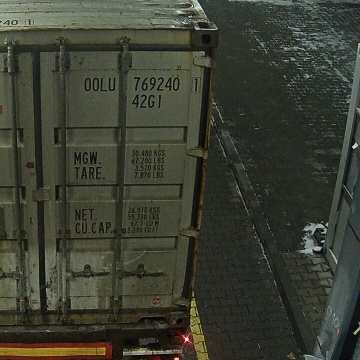serial_id: (84, 77, 199, 91)
